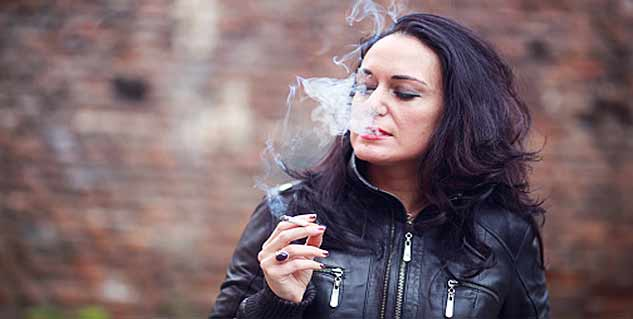cigarette: (272, 208, 324, 230)
